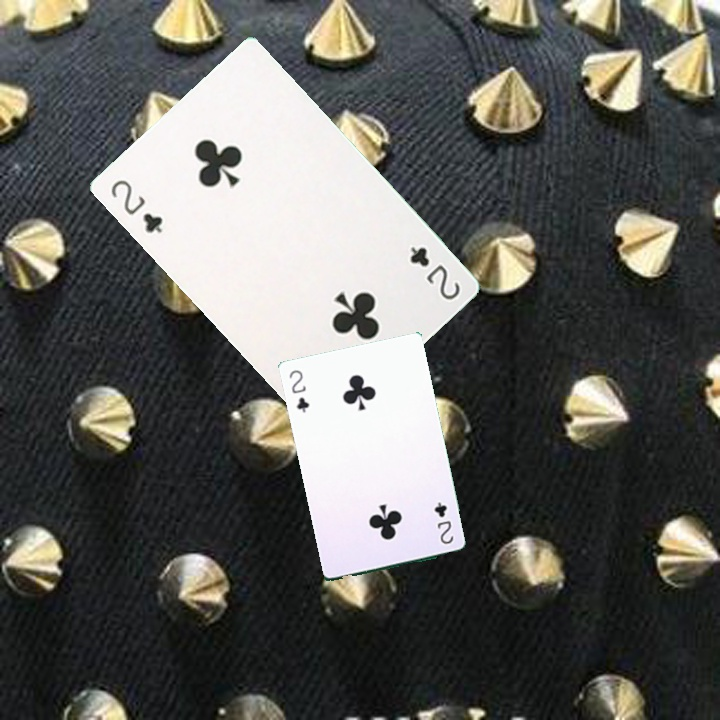2c: (106, 175, 166, 236), (406, 242, 463, 303), (285, 366, 312, 415), (430, 498, 456, 547)
